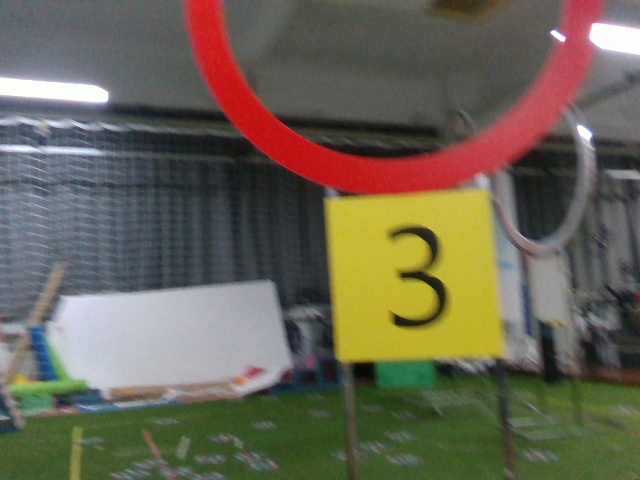target: (330, 198, 503, 361)
